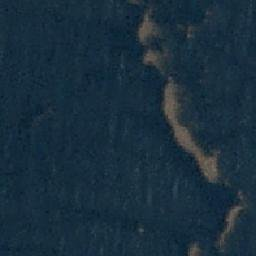debris: (139, 12, 162, 42), (161, 76, 177, 118), (171, 120, 189, 149), (199, 155, 219, 179), (191, 138, 208, 164), (144, 48, 167, 65), (225, 208, 239, 232), (216, 230, 228, 247), (235, 190, 246, 203), (186, 239, 199, 248)
